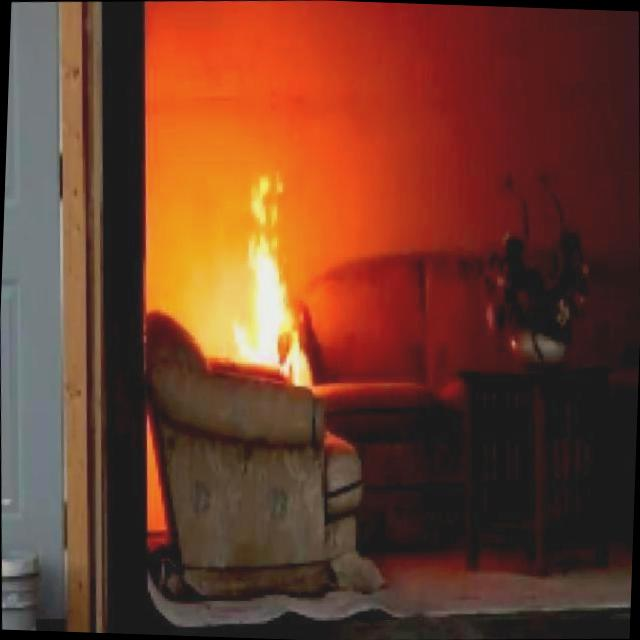fire: (220, 154, 324, 380)
